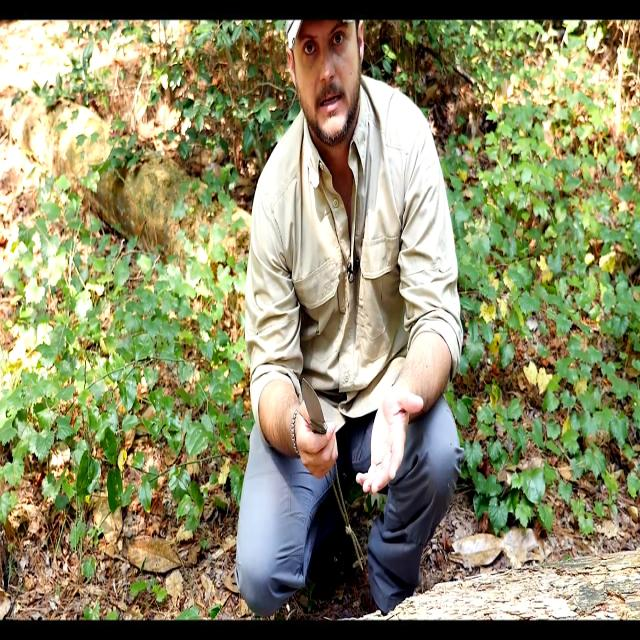knife: (299, 379, 334, 442)
